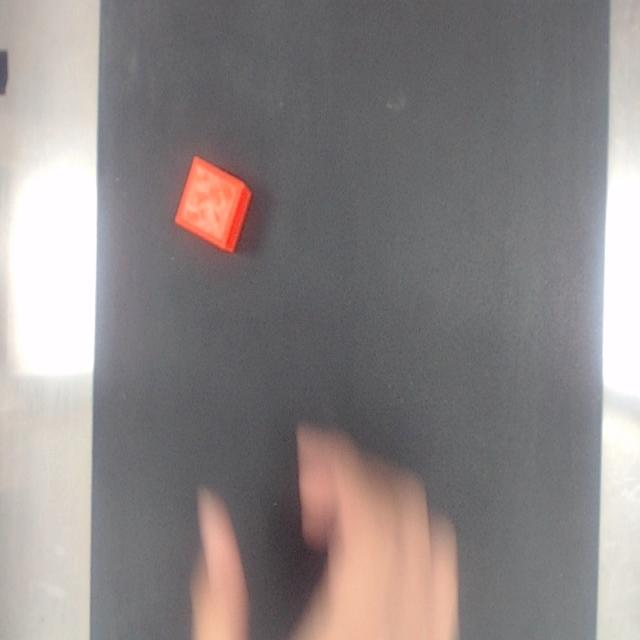Rojo: (175, 156, 250, 252)
